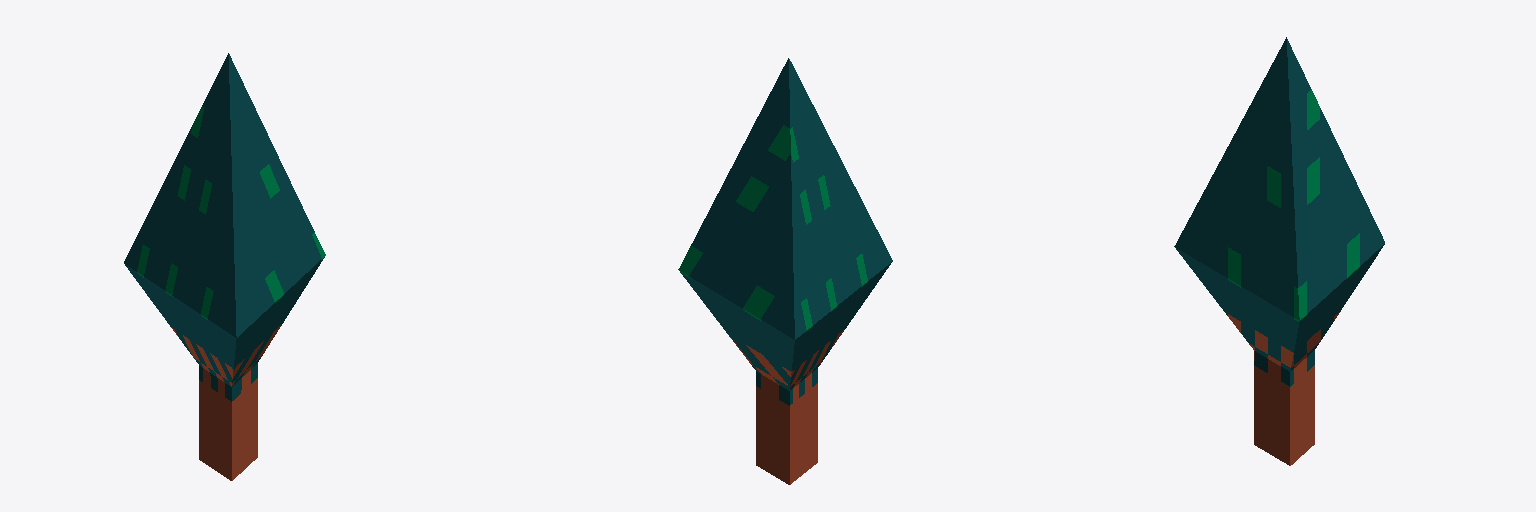
3 renders of one model, left to right at view 1: azimuth 30°, elevation 25°; view 2: azimuth 150°, elevation 25°; view 3: azimuth 270°, elevation 25°, orthographic.
Visible parts, largest first — view 1: tree; view 2: tree; view 3: tree.
Part boxes in pixels (x1,y1,x2,y2): tree: (124,53,325,480); tree: (678,58,892,484); tree: (1174,37,1384,465).
Bounding box in the file's own units: 0.8324 × 2.06 × 0.9548.
Materials: 1 (1 with a texture image).